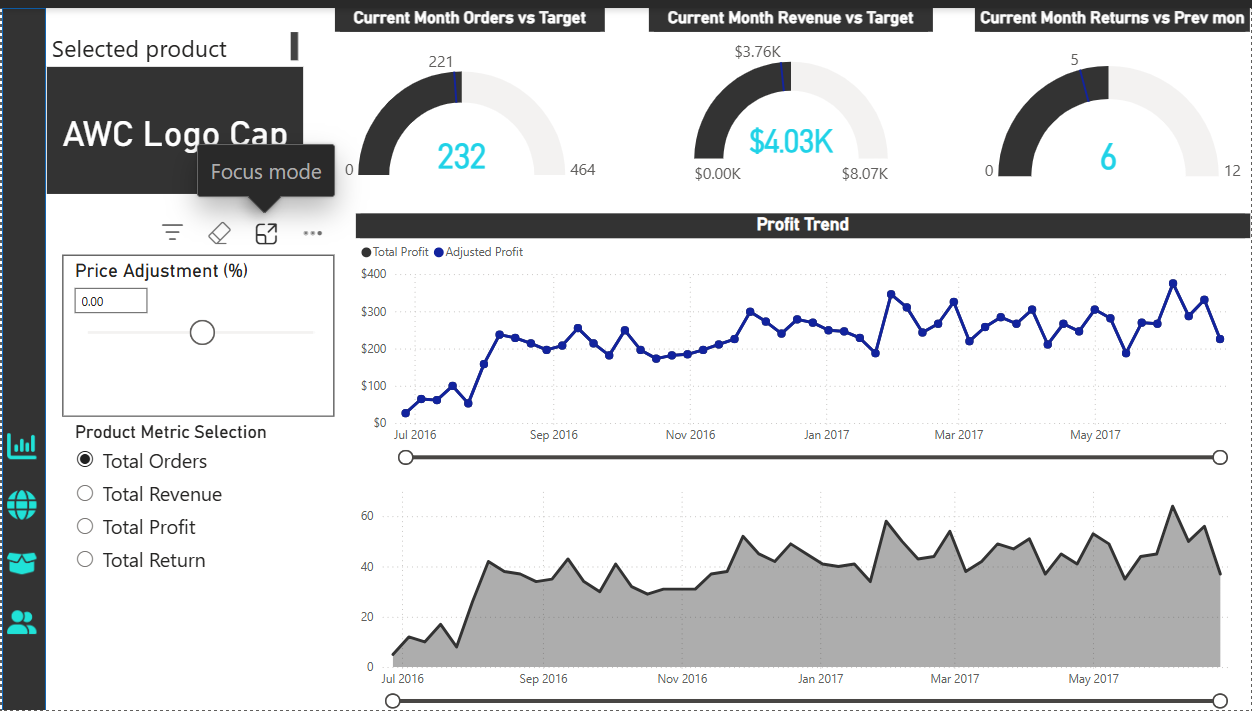

This screenshot's page, from the dashboard's own definition file:
{"tool":"powerbi","page":{"name":"Product Details","canvas":[1280,720],"ordinal":2},"visuals":[{"type":"shape","box":[0,0,45,720.9],"z":0},{"type":"image","box":[0,600.4,40.2,60.2],"z":0,"group":"g1"},{"type":"gauge","title":"Current Month Orders vs Target","fields":{"TargetValue":["AW_Sales.Order Target"],"Y":["AW_Sales.Total Orders"]},"box":[341.9,0,276.7,190.3],"z":1000},{"type":"image","box":[0,540.2,40.2,60.2],"z":1000,"group":"g1"},{"type":"gauge","title":"Current Month Revenue vs Target","fields":{"TargetValue":["AW_Sales.Revenue Targets"],"Y":["AW_Sales.Total Revenue"]},"box":[662.7,0,290.8,190.3],"z":2000},{"type":"image","box":[0,419.7,40.2,60.2],"z":2000,"group":"g1"},{"type":"gauge","title":"Current Month Returns  vs Prev mon","fields":{"TargetValue":["AW_Sales.Prev Months Returns"],"Y":["AW_Returns.Total Return"]},"box":[997.6,0,282,190.3],"z":3000},{"type":"image","box":[0,479.9,40.2,60.2],"z":3000,"group":"g1"},{"type":"lineChart","title":"Profit Trend","fields":{"Category":["AW_Calendar_Lookup.Start of Week"],"Y":["AW_Sales.Total Profit","AW_Sales.Adjusted Profit"]},"box":[363.1,209.7,916.5,260.8],"z":4000},{"type":"areaChart","title":"Returns trend","fields":{"Category":["AW_Calendar_Lookup.Start of Week"],"Y":["AW_Sales.Total Orders"]},"box":[363.2,480.7,916.8,240.3],"z":5000},{"type":"card","fields":{"Values":["Min(AW_Products_Lookup.ProductName)"]},"box":[45.8,59.9,262.6,130.4],"z":6000},{"type":"textbox","box":[45.8,19.4,262.6,40.5],"z":7000},{"type":"group","id":"g1","title":"Navigation Buttons","box":[0,419.7,40.2,241],"z":8000},{"type":"slicer","fields":{"Values":["Price Adjustment (%).Price Adjustment (%)"]},"box":[61.7,252,280.2,167.4],"z":9000},{"type":"slicer","fields":{"Values":["Product Metric Selection.Product Metric Selection"]},"box":[62.6,418.7,280.1,275.6],"z":10000}]}

Visuals, with their boxes on the page's 1280x720 design canvas (x1, y1, x2, y2). These are canvas units, not pixel positions in the 1252x711 screenshot, which may show the page scaled, cropped or inside an application window:
shape: 0,0,45,721
image: 0,600,40,661
"Current Month Orders vs Target" gauge: 342,0,619,190
image: 0,540,40,600
"Current Month Revenue vs Target" gauge: 663,0,954,190
image: 0,420,40,480
"Current Month Returns  vs Prev mon" gauge: 998,0,1280,190
image: 0,480,40,540
"Profit Trend" lineChart: 363,210,1280,470
"Returns trend" areaChart: 363,481,1280,721
card - Min(AW_Products_Lookup.ProductName): 46,60,308,190
textbox: 46,19,308,60
"Navigation Buttons" group: 0,420,40,661
slicer - Price Adjustment (%).Price Adjustment (%): 62,252,342,419
slicer - Product Metric Selection.Product Metric Selection: 63,419,343,694
